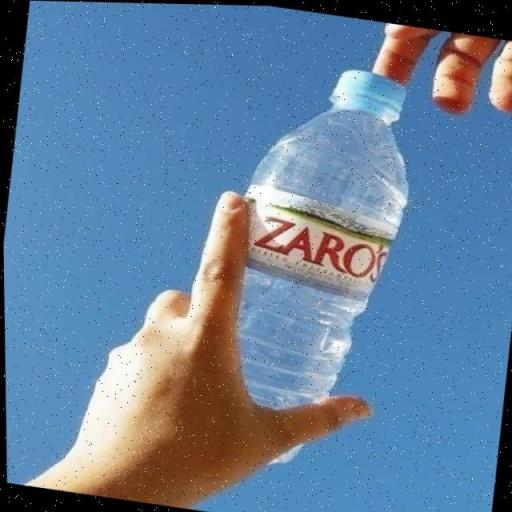plastic: (232, 68, 409, 410)
